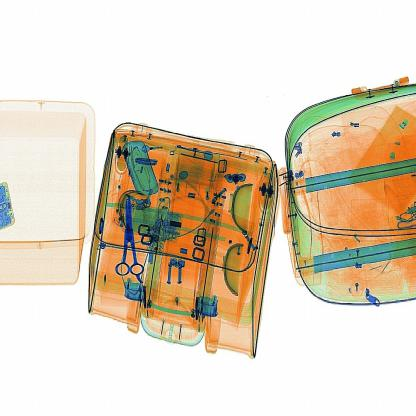gun: (112, 193, 151, 288)
